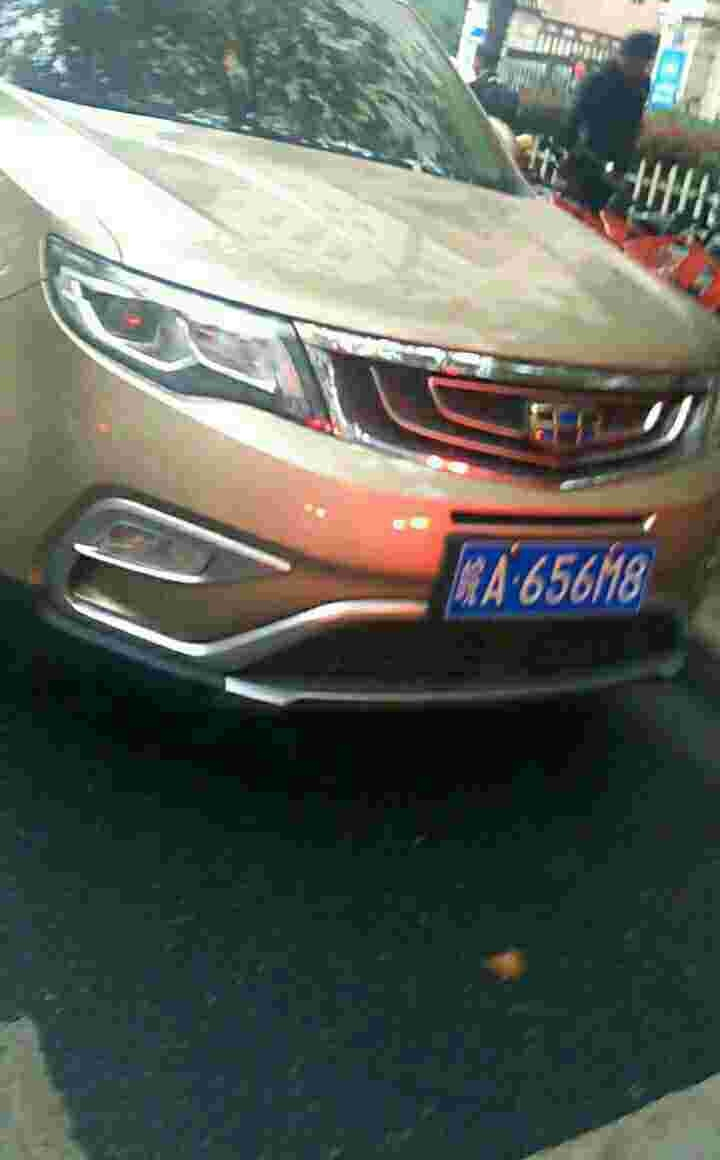plate: (448, 539, 664, 619)
